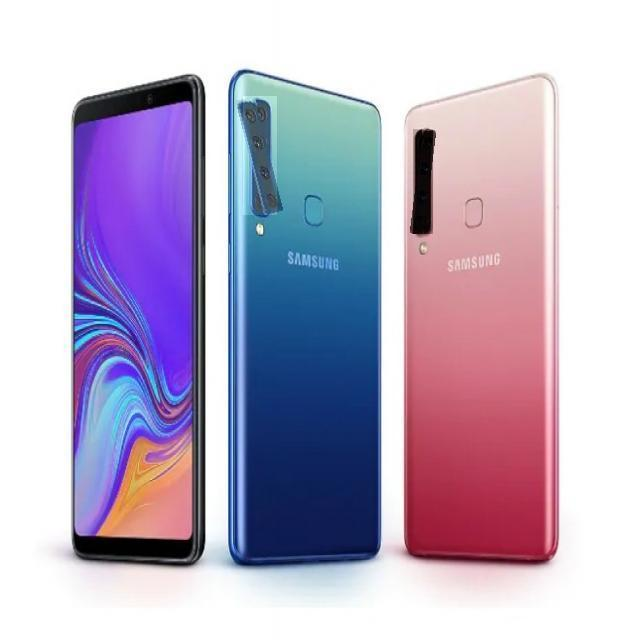lens: (243, 96, 277, 215), (413, 129, 433, 234)
phone: (398, 71, 563, 565), (225, 65, 383, 566), (67, 70, 210, 569)
